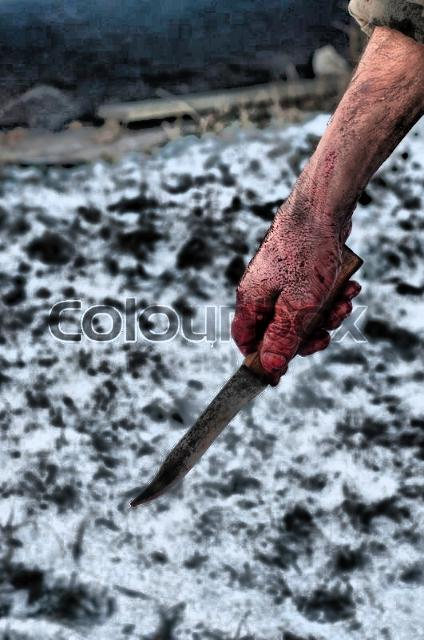knife: (123, 292, 337, 516)
